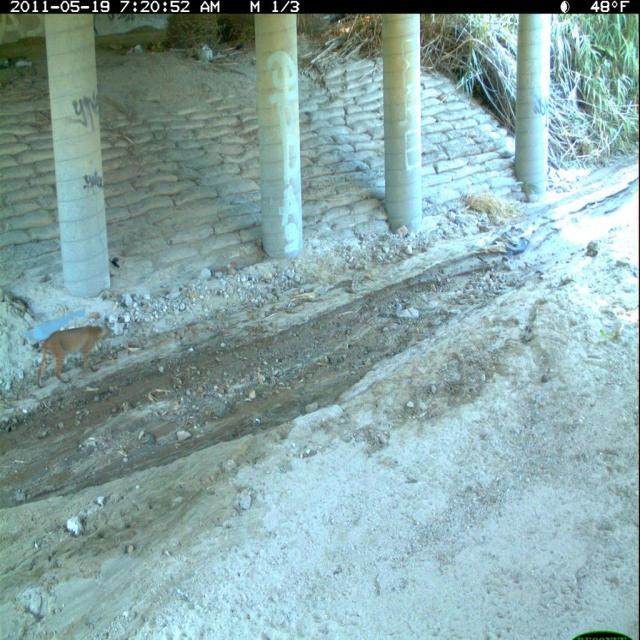bobcat: (32, 320, 115, 392)
